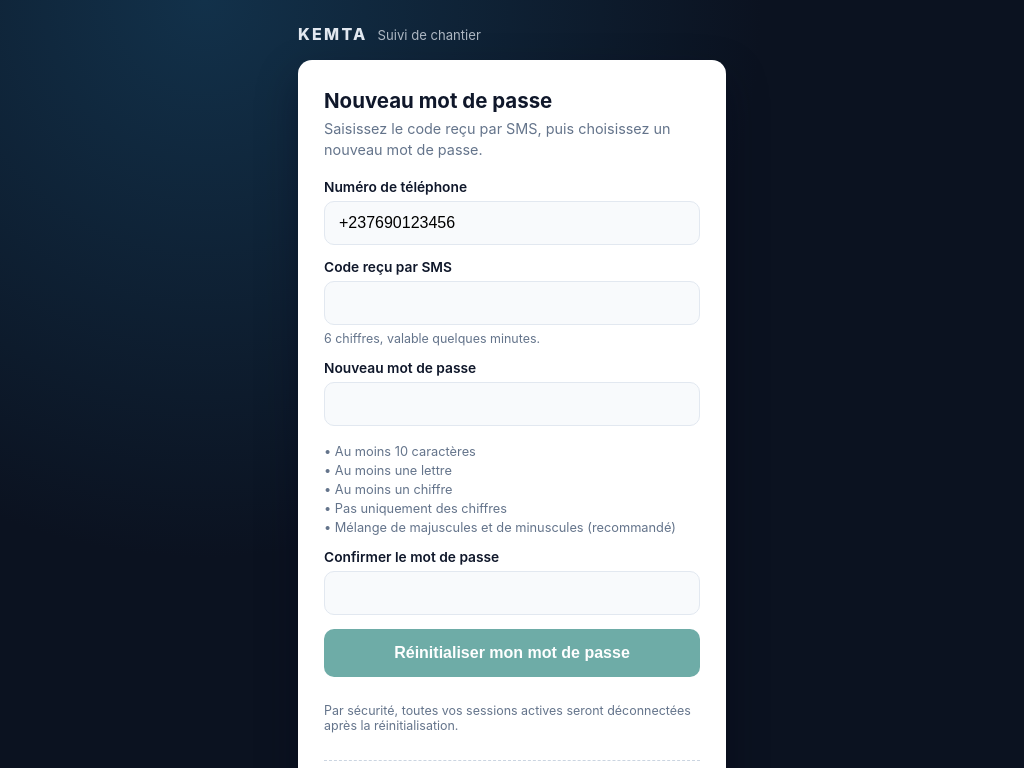
ResetPasswordPage › bloque l'envoi tant que le mot de passe ne respecte pas les règles
Step 1. Type "123456" into the field labelled "Code reçu par SMS" → (512, 303), box [324, 281, 700, 325]
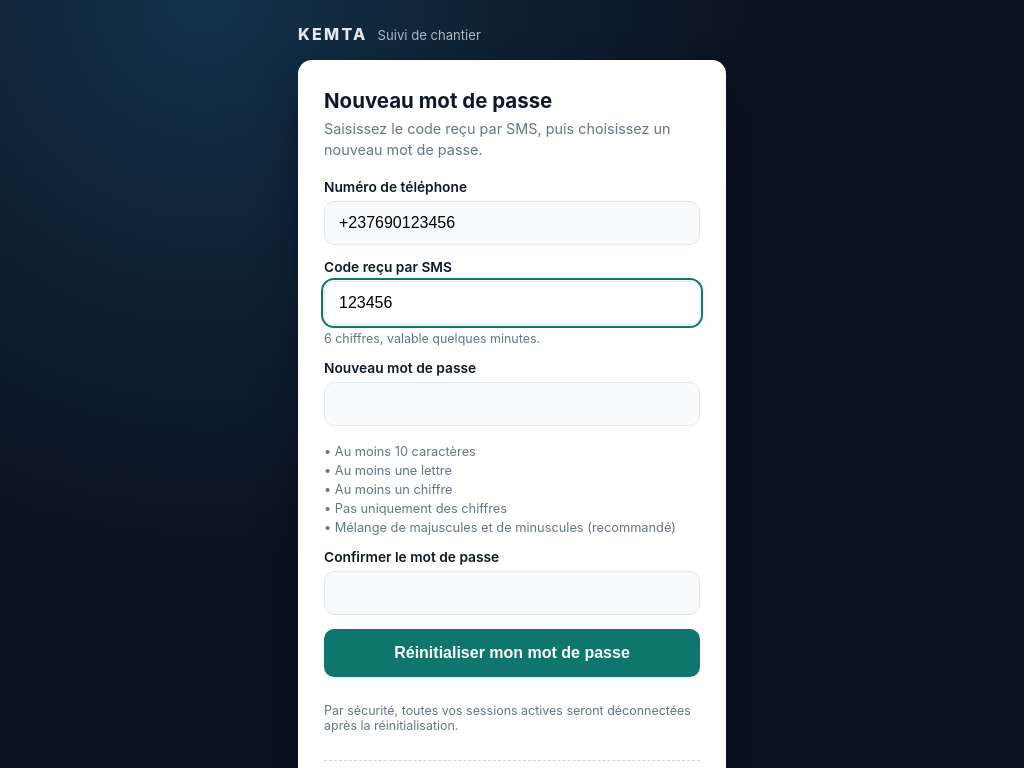
Step 2. Type "abc" into the password field labelled "Nouveau mot de passe" → (512, 404), box [324, 382, 700, 426]
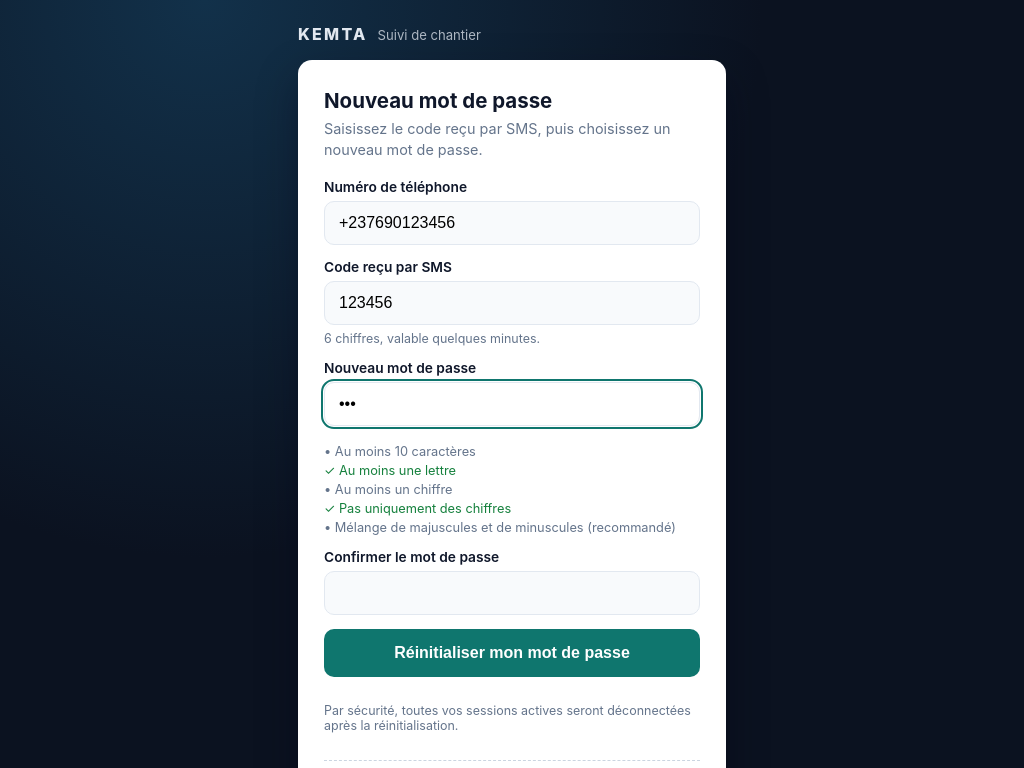
Step 3. Type "abc" into the password field labelled "Confirmer le mot de passe" → (512, 593), box [324, 571, 700, 615]
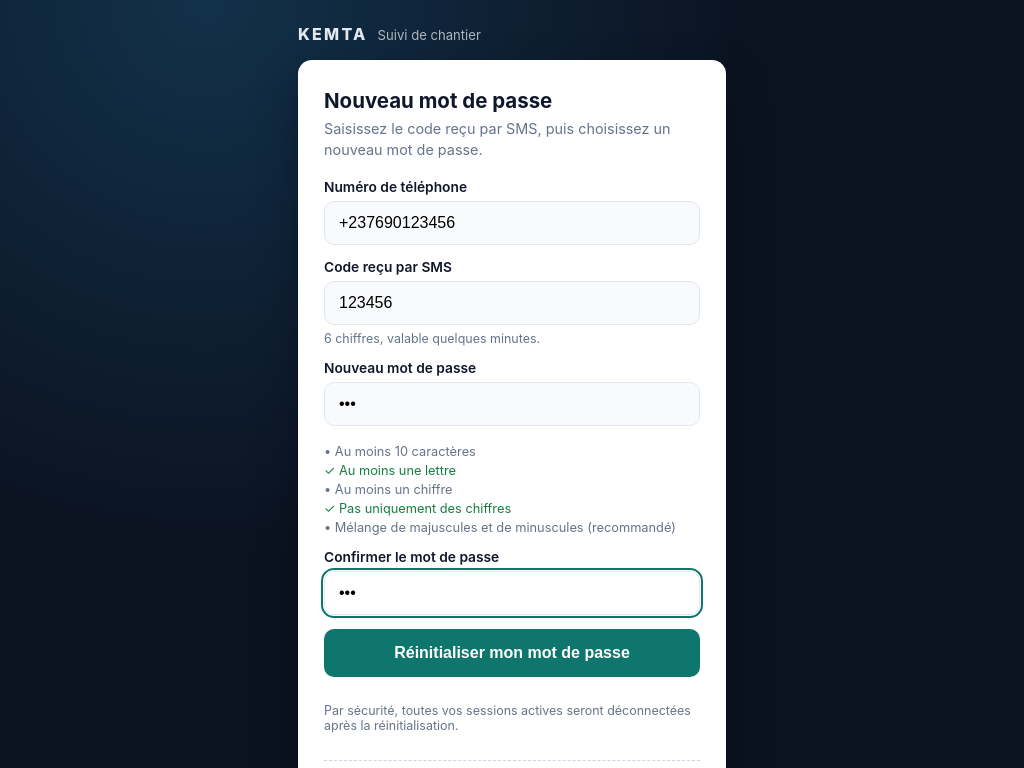
Step 4. Click the button "Réinitialiser mon mot de passe" → (512, 653), box [324, 629, 700, 677]
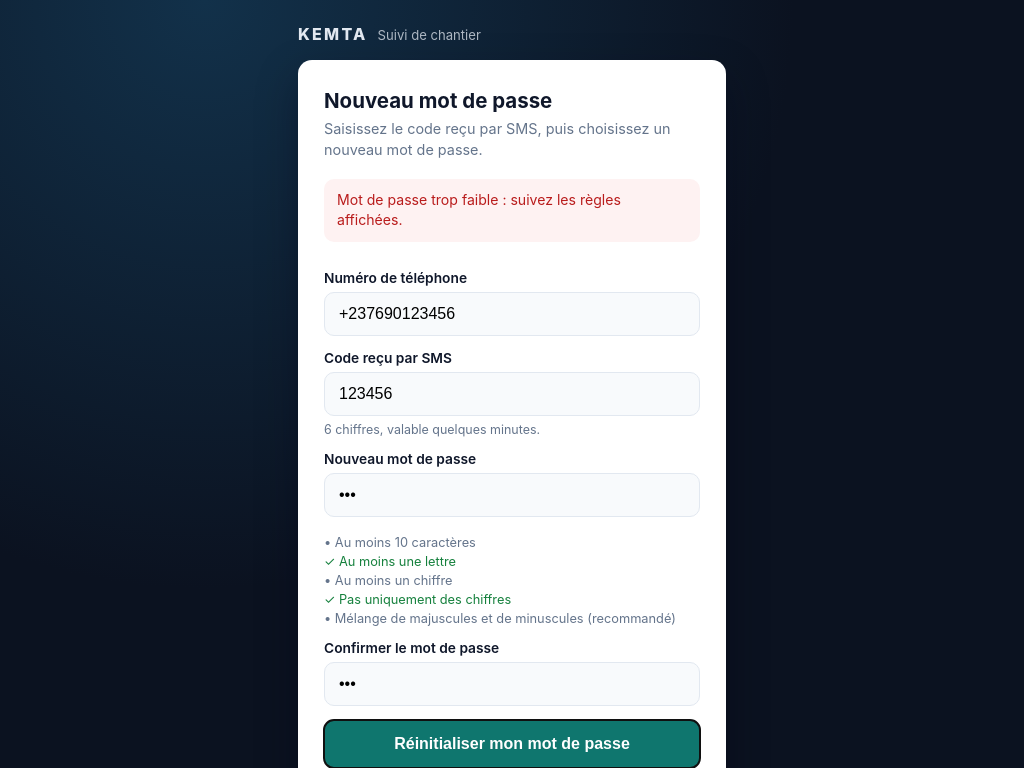
Now the message shows "trop faible", box [337, 191, 621, 228]
